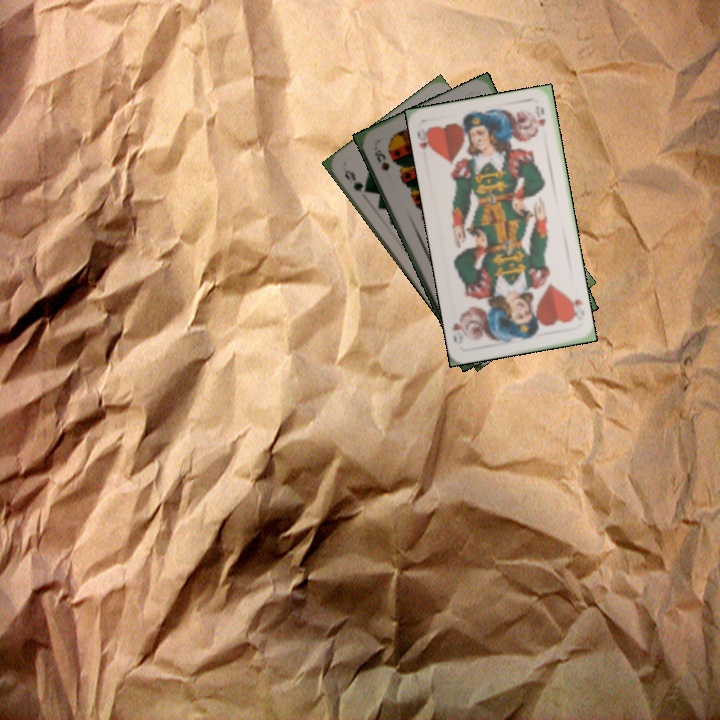G9: (340, 166, 372, 196)
HO: (564, 290, 585, 324), (413, 124, 435, 153)
S8: (370, 143, 392, 173)
